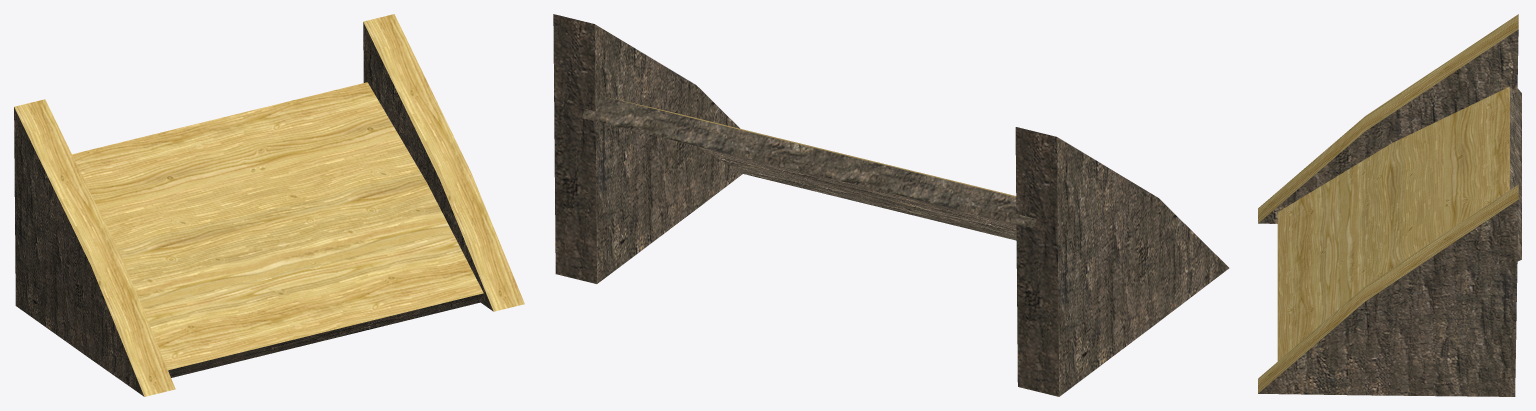
Rendered from construction_wood_foundation_stairs_mesh_lod2.fbx.
The picture shows the model from 3 angles, left to right: view 1: azimuth 30°, elevation 25°; view 2: azimuth 150°, elevation 25°; view 3: azimuth 270°, elevation 25°; orthographic projection. The views are drawn at different scales.
Parts seen in each view (by area): view 1: construction_wood_foundation_stairs_mesh; view 2: construction_wood_foundation_stairs_mesh; view 3: construction_wood_foundation_stairs_mesh.
Boxes of the visible parts, <box> form: construction_wood_foundation_stairs_mesh: <box>14,14,524,396</box>; construction_wood_foundation_stairs_mesh: <box>553,14,1229,396</box>; construction_wood_foundation_stairs_mesh: <box>1258,14,1521,396</box>.
Bounding box in the file's own units: 285 × 142 × 171.
